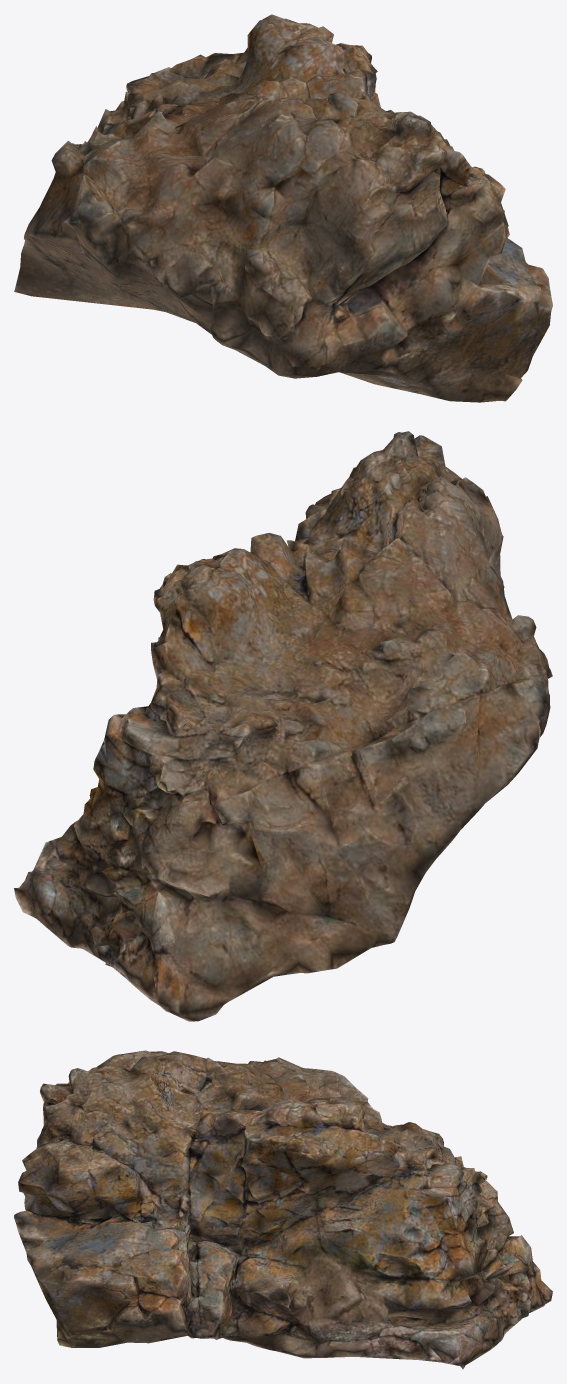
Rendered from boulder_01.glb.
3 renders of one model, top to bottom at view 1: azimuth 30°, elevation 25°; view 2: azimuth 150°, elevation 25°; view 3: azimuth 270°, elevation 25°, orthographic. The views are drawn at different scales.
Parts seen in each view (by area): view 1: boulder_01; view 2: boulder_01; view 3: boulder_01.
Part boxes in pixels (box(x1,y1,x2,y2)): boulder_01: box(14, 14, 552, 402); boulder_01: box(14, 431, 552, 1021); boulder_01: box(14, 1050, 552, 1369).
Bounding box in the file's own units: 1.27 × 1 × 1.83.
Materials: 1 (1 with a texture image).
